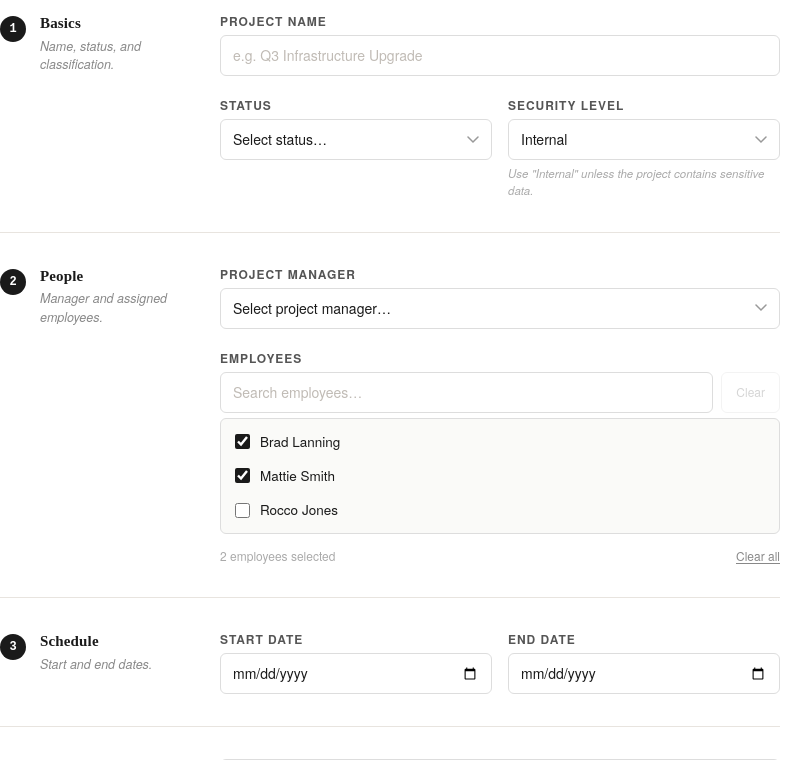
Scenario: ProjectFormFields › clear all removes every selected employee
Click the button "Clear all" at (758, 556), box top-left (736, 547), bottom-right (780, 565)
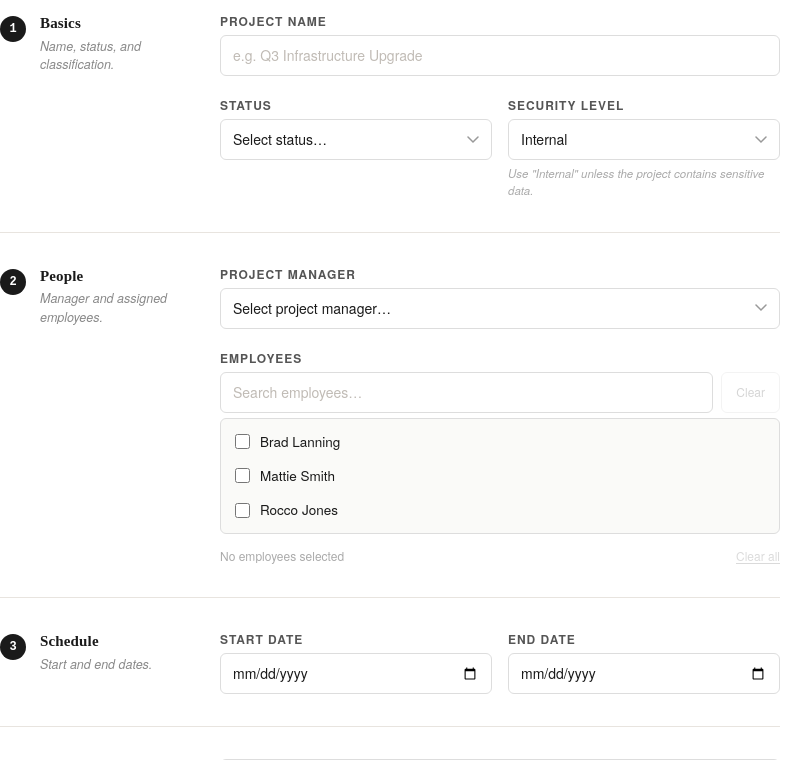
Expected: the checkbox labelled "Rocco Jones" is not checked, top-left (235, 503), bottom-right (250, 518)
Now the checkbox labelled "Brad Lanning" is not checked, box top-left (235, 434), bottom-right (250, 449)
Now the checkbox labelled "Mattie Smith" is not checked, box top-left (235, 468), bottom-right (250, 483)
